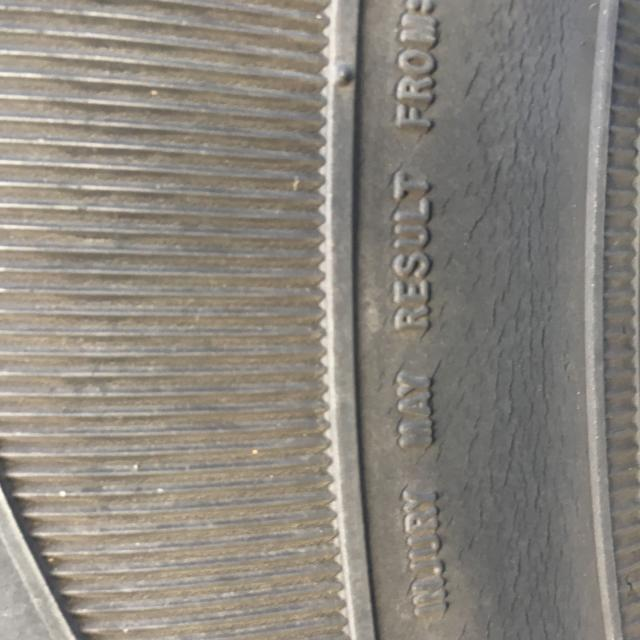Cracks: (430, 0, 608, 640)
